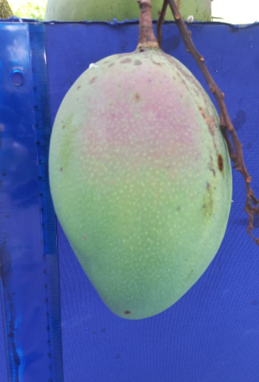Mango-sano: (49, 0, 231, 319)
